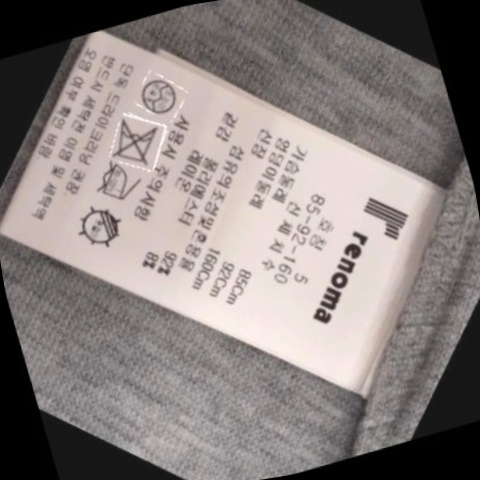DN_wash: (107, 113, 170, 170)
dry_clean_petrol_only: (135, 70, 185, 119)
iron_low: (89, 159, 145, 209)
line_dry_in_shade: (73, 200, 134, 253)
